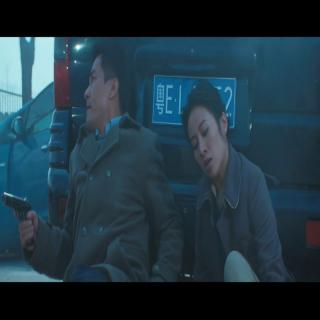gun: (2, 186, 36, 252)
